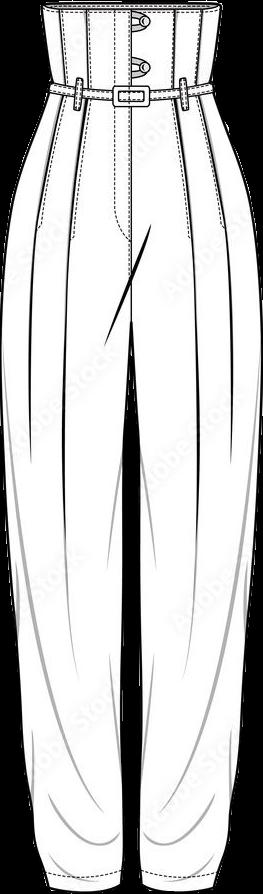Hemline: (141, 874, 216, 893), (47, 874, 121, 893)
Pantleg: (1, 4, 131, 891), (131, 4, 261, 890)
Waistline: (47, 76, 215, 99), (40, 0, 227, 16)
